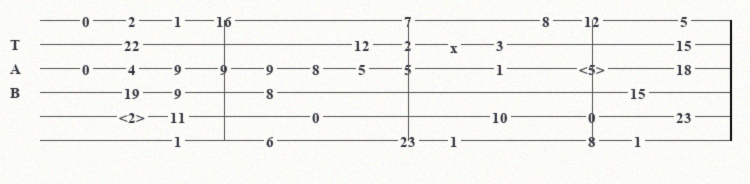0: (82, 61, 94, 75), (82, 13, 94, 27), (312, 109, 324, 123), (588, 109, 600, 123)
1: (174, 133, 186, 147), (174, 13, 186, 27), (450, 133, 462, 147), (496, 61, 508, 75), (634, 133, 646, 147)
10: (492, 109, 512, 123)
11: (170, 109, 190, 123)
12: (354, 37, 374, 51), (584, 13, 604, 27)
15: (630, 85, 650, 99), (676, 37, 696, 51)
16: (216, 13, 236, 27)
18: (676, 61, 696, 75)
19: (124, 85, 144, 99)
2: (128, 13, 140, 27), (404, 37, 416, 51)
22: (124, 37, 144, 51)
23: (400, 133, 420, 147), (676, 109, 696, 123)
3: (496, 37, 508, 51)
4: (128, 61, 140, 75)
5: (358, 61, 370, 75), (404, 61, 416, 75), (680, 13, 692, 27)
6: (266, 133, 278, 147)
7: (404, 13, 416, 27)
8: (266, 85, 278, 99), (312, 61, 324, 75), (542, 13, 554, 27), (588, 133, 600, 147)
9: (174, 85, 186, 99), (174, 61, 186, 75), (220, 61, 232, 75), (266, 61, 278, 75)
harmonic: (119, 109, 149, 123), (579, 61, 609, 75)
x: (450, 39, 462, 50)
